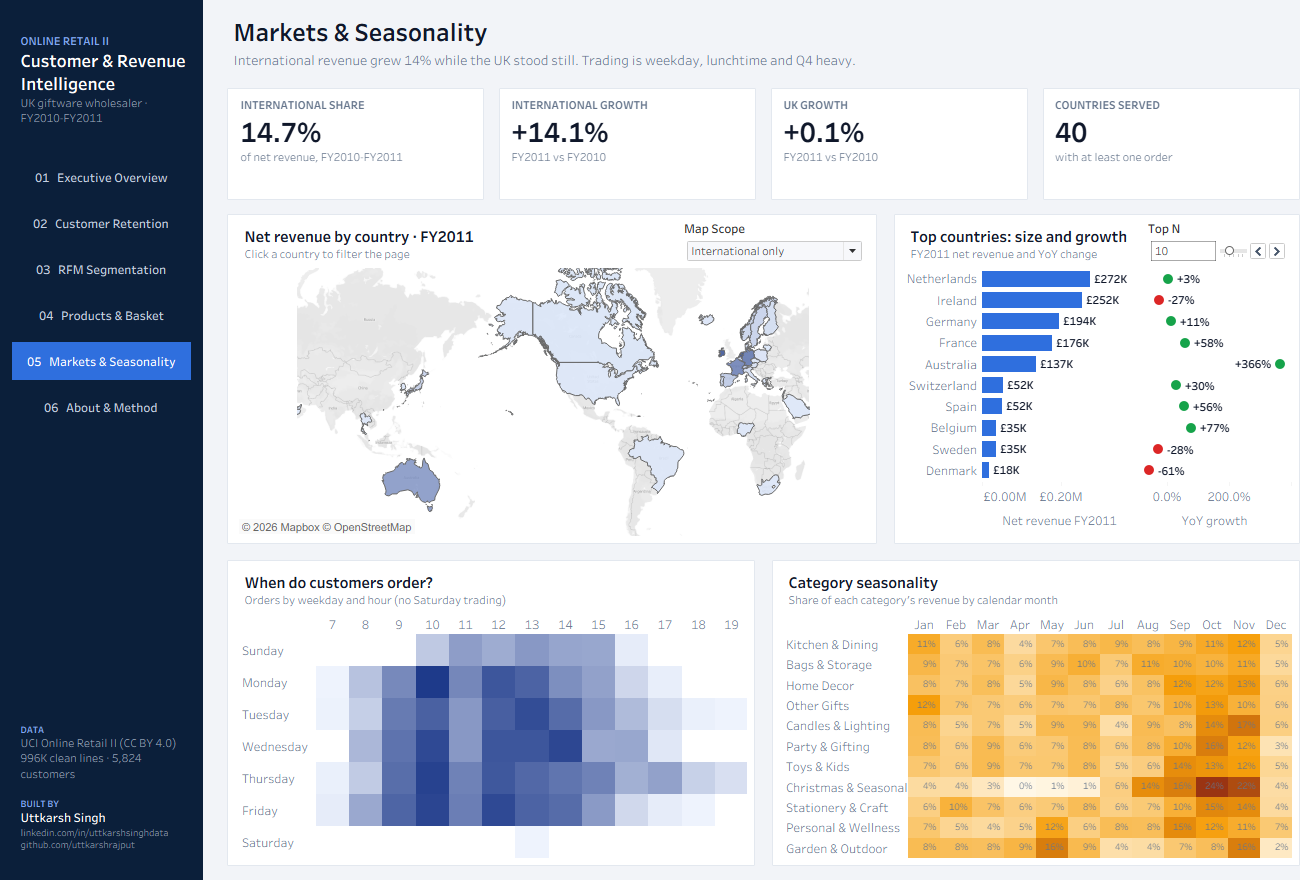

What the dashboard file says about the page in this screenshot:
{"tool":"tableau","page":{"name":"Markets & Seasonality","canvas":[1300,880],"ordinal":4},"visuals":[{"type":"blank","box":[0,0,200,880]},{"type":"text","box":[224,14,820,34]},{"type":"text","box":[14,22,180,118]},{"type":"text","box":[224,48,980,24]},{"type":"blank","box":[224,88,253.5,112]},{"type":"blank","box":[491.5,88,253.5,112]},{"type":"blank","box":[759,88,253.5,112]},{"type":"blank","box":[1026.5,88,253.5,112]},{"type":"worksheet","title":"KPI International Share","mark":"Text","box":[232,98,237.5,94]},{"type":"worksheet","title":"KPI International Growth","mark":"Text","box":[499.5,98,237.5,94]},{"type":"worksheet","title":"KPI UK Growth","mark":"Text","box":[767,98,237.5,94]},{"type":"worksheet","title":"KPI Countries","mark":"Text","box":[1034.5,98,237.5,94]},{"type":"dashboard-object","box":[12,158,176,38]},{"type":"dashboard-object","box":[12,204,176,38]},{"type":"blank","box":[224,214,640,330]},{"type":"blank","box":[880,214,400,330]},{"type":"parameter","param":"[Parameters].[Parameter 6]","box":[672,218,182,52]},{"type":"parameter","param":"[Parameters].[Parameter 4]","box":[1128,218,142,52]},{"type":"text","box":[234,222,420,44]},{"type":"text","box":[890,222,230,44]},{"type":"dashboard-object","box":[12,250,176,38]},{"type":"worksheet","title":"Revenue Map","mark":"Automatic","box":[232,268,624,268]},{"type":"worksheet","title":"Country Growth","mark":"Bar","rows":["Country"],"cols":["Calculation_1009195715376662578","Calculation_1504444421617887389"],"box":[888,268,384,268]},{"type":"dashboard-object","box":[12,296,176,38]},{"type":"dashboard-object","box":[12,342,176,38]},{"type":"dashboard-object","box":[12,388,176,38]},{"type":"blank","box":[224,560,520,306]},{"type":"blank","box":[760,560,520,306]},{"type":"text","box":[234,568,500,44]},{"type":"text","box":[770,568,500,44]},{"type":"worksheet","title":"Orders by Weekday and Hour","mark":"Square","rows":["Invoice Date"],"cols":["Invoice Date"],"box":[232,614,504,244]},{"type":"worksheet","title":"Category Seasonality","mark":"Square","rows":["Category"],"cols":["Calculation_1808333011082473685"],"box":[768,614,504,244]},{"type":"text","box":[14,712,180,156]}]}

Visuals, with their boxes on the page's 1300x880 design canvas (x1, y1, x2, y2). These are canvas units, not pixel positions in the 1300x880 screenshot, which may show the page scaled, cropped or inside an application window:
blank: rect(0, 0, 200, 880)
text: rect(224, 14, 1044, 48)
text: rect(14, 22, 194, 140)
text: rect(224, 48, 1204, 72)
blank: rect(224, 88, 478, 200)
blank: rect(492, 88, 745, 200)
blank: rect(759, 88, 1012, 200)
blank: rect(1026, 88, 1280, 200)
"KPI International Share" worksheet (Text marks): rect(232, 98, 470, 192)
"KPI International Growth" worksheet (Text marks): rect(500, 98, 737, 192)
"KPI UK Growth" worksheet (Text marks): rect(767, 98, 1004, 192)
"KPI Countries" worksheet (Text marks): rect(1034, 98, 1272, 192)
dashboard-object: rect(12, 158, 188, 196)
dashboard-object: rect(12, 204, 188, 242)
blank: rect(224, 214, 864, 544)
blank: rect(880, 214, 1280, 544)
parameter: rect(672, 218, 854, 270)
parameter: rect(1128, 218, 1270, 270)
text: rect(234, 222, 654, 266)
text: rect(890, 222, 1120, 266)
dashboard-object: rect(12, 250, 188, 288)
"Revenue Map" worksheet: rect(232, 268, 856, 536)
"Country Growth" worksheet (Bar marks): rect(888, 268, 1272, 536)
dashboard-object: rect(12, 296, 188, 334)
dashboard-object: rect(12, 342, 188, 380)
dashboard-object: rect(12, 388, 188, 426)
blank: rect(224, 560, 744, 866)
blank: rect(760, 560, 1280, 866)
text: rect(234, 568, 734, 612)
text: rect(770, 568, 1270, 612)
"Orders by Weekday and Hour" worksheet (Square marks): rect(232, 614, 736, 858)
"Category Seasonality" worksheet (Square marks): rect(768, 614, 1272, 858)
text: rect(14, 712, 194, 868)
